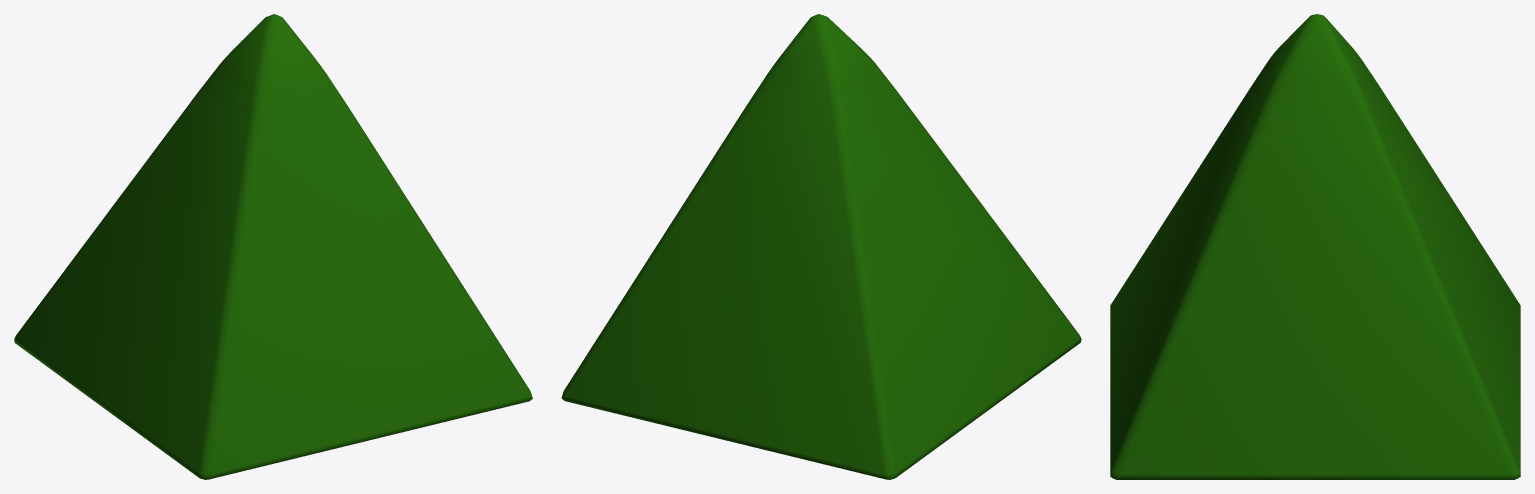
The model's file is bush-01_col.fbx.
The picture shows the model from 3 angles, left to right: view 1: azimuth 30°, elevation 25°; view 2: azimuth 150°, elevation 25°; view 3: azimuth 270°, elevation 25°; orthographic projection. The views are drawn at different scales.
Visible parts, largest first — view 1: bush-01.col; view 2: bush-01.col; view 3: bush-01.col.
Boxes of the visible parts, bbox=[...] form: bush-01.col: bbox=[14, 14, 532, 479]; bush-01.col: bbox=[561, 14, 1081, 479]; bush-01.col: bbox=[1110, 14, 1520, 479].
Bounding box in the file's own units: 0.0641 × 0.0659 × 0.0641.
Materials: 1 (1 with a texture image).
